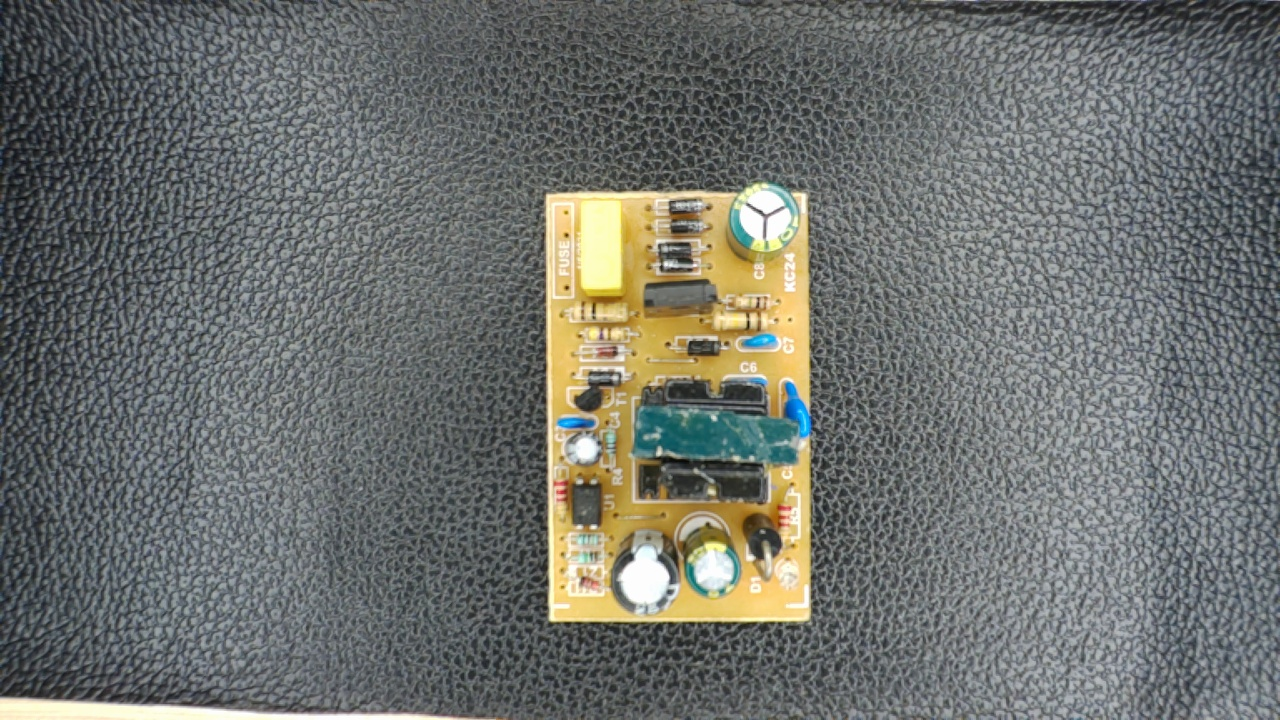hv_capacitor: (728, 183, 797, 263)
mov: (782, 380, 812, 446)
optocoupler: (569, 474, 605, 531)
